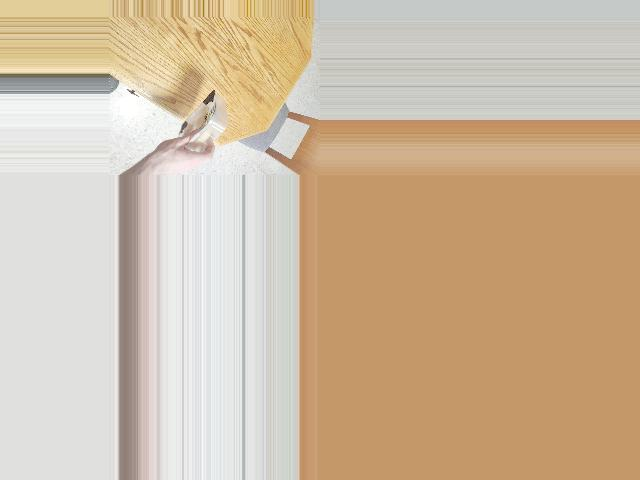cheese: (170, 97, 241, 154)
